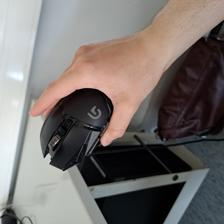mouse: (38, 87, 113, 171)
